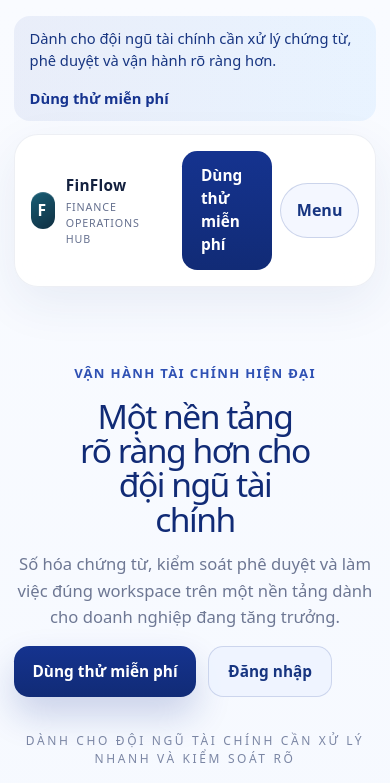
Test: LandingPageComponent › toggles the mobile navigation menu
The image size is (390, 783).
Click the button with test id "landing-menu-toggle".
click(320, 210)  # box [280,183,359,238]
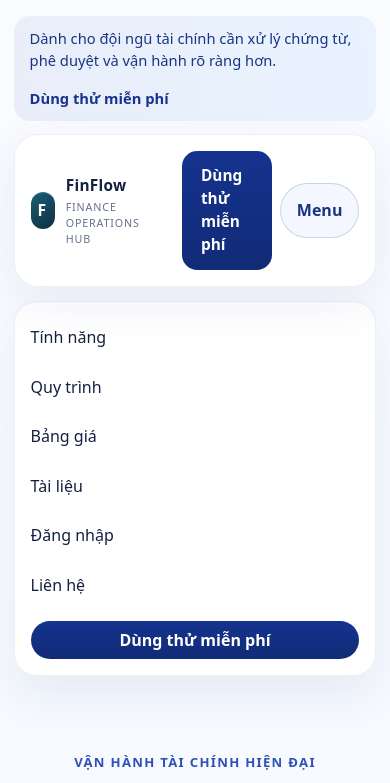
Expected: the element with test id "landing-mobile-nav" is shown, [14,301,376,676]
